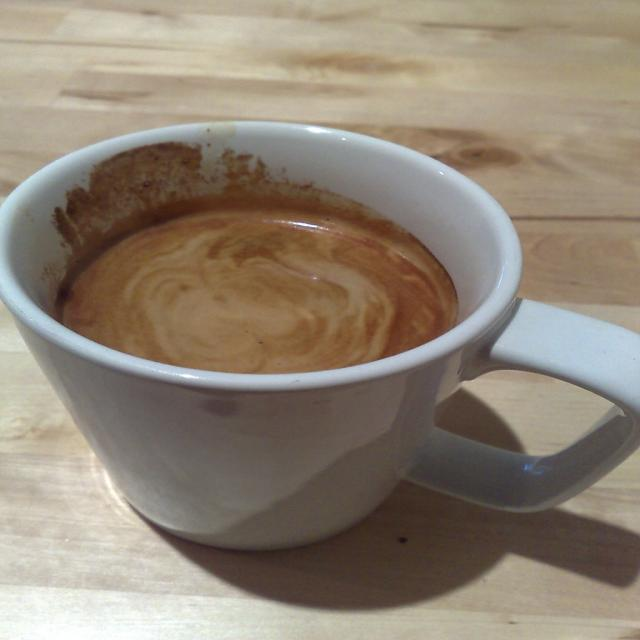Coffee: (54, 140, 463, 372)
